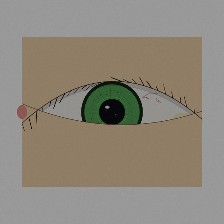pinguecula_lesion: (163, 103, 202, 134)
